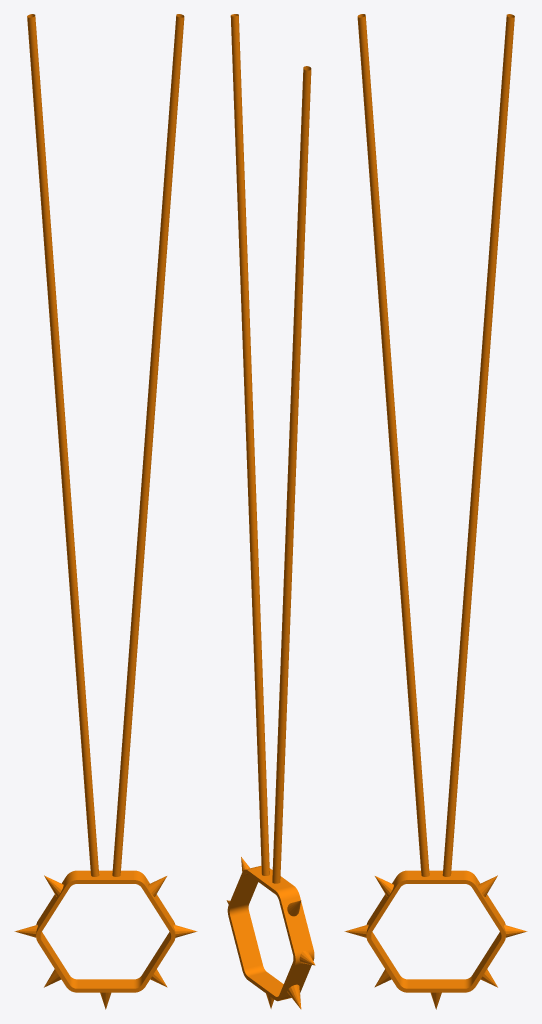
The model's file is cutter6_pencil.fbx.
3 views of the same model, side by side, from view 1: azimuth 90°, elevation 25°; view 2: azimuth 210°, elevation 25°; view 3: azimuth 270°, elevation 25° (orthographic). The views are drawn at different scales.
Parts seen in each view (by area): view 1: Cutter6_Pencil; view 2: Cutter6_Pencil; view 3: Cutter6_Pencil.
Boxes of the visible parts, bbox=[...] form: Cutter6_Pencil: bbox=[14, 14, 197, 1009]; Cutter6_Pencil: bbox=[226, 14, 315, 1009]; Cutter6_Pencil: bbox=[344, 14, 527, 1009].
Bounding box in the file's own units: 16.77 × 821 × 137.
